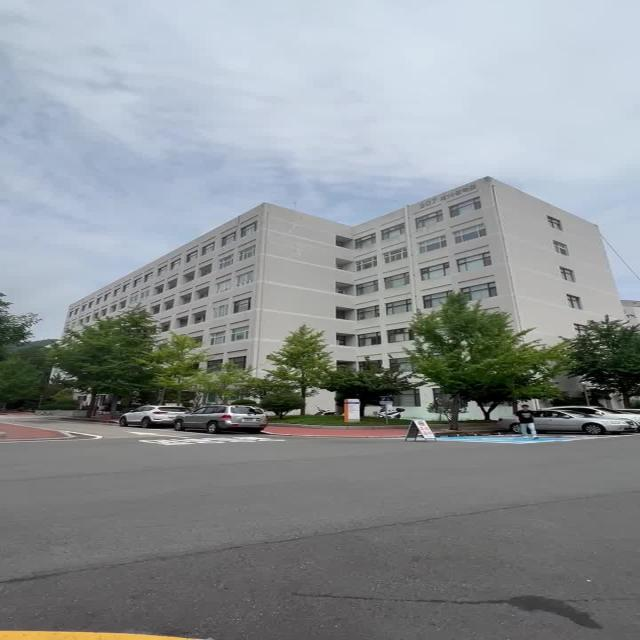building: (170, 181, 612, 310)
